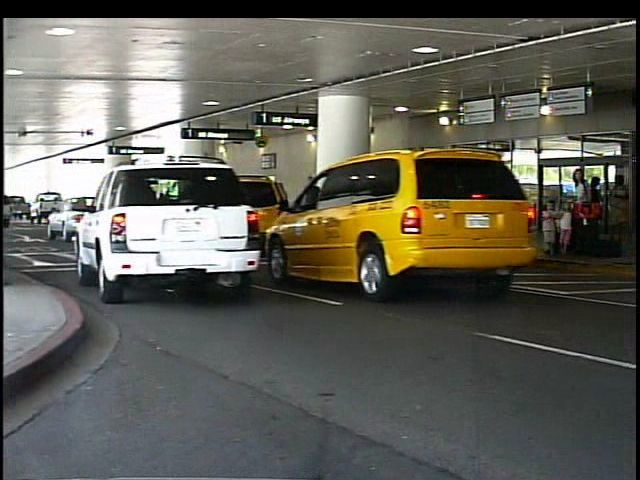person: (492, 171, 521, 259), (569, 168, 596, 256), (587, 175, 608, 244), (560, 200, 577, 253)
